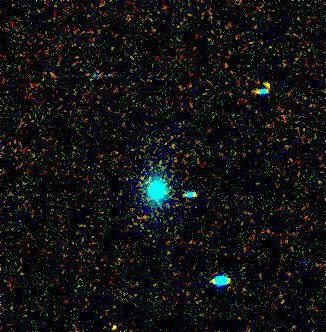star: (102, 307, 132, 332)
